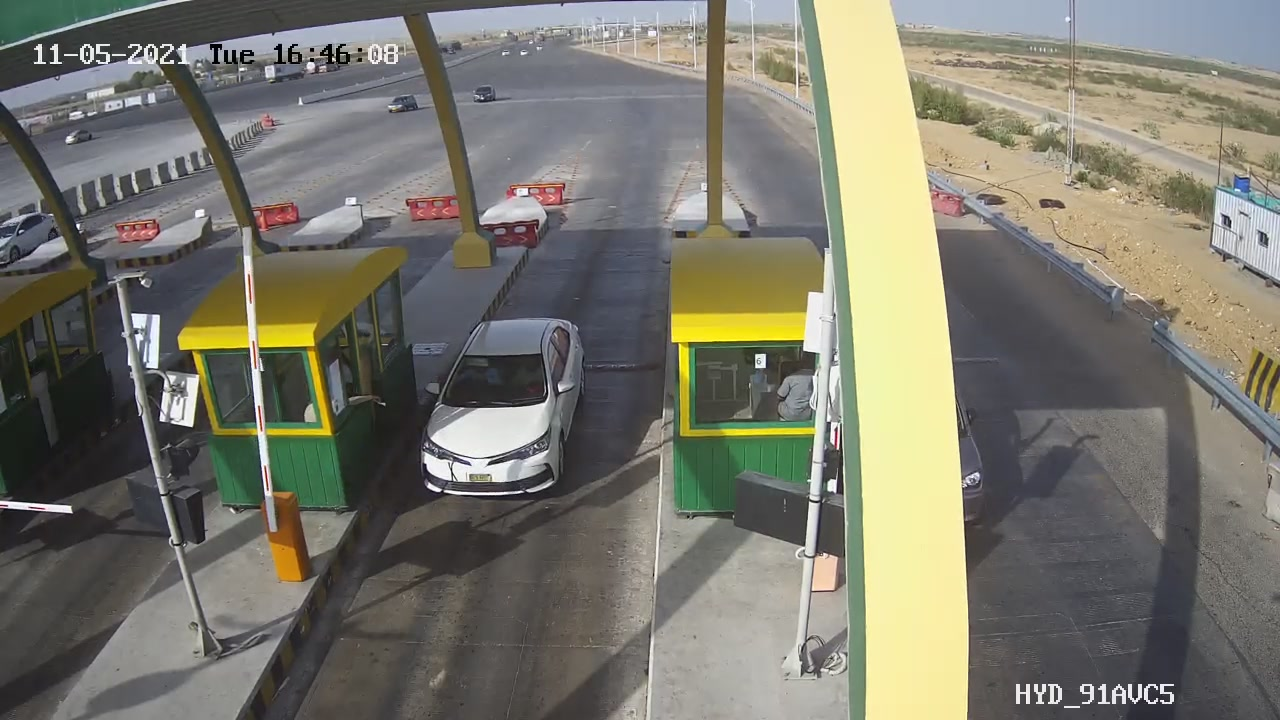F1: (397, 301, 605, 532)
